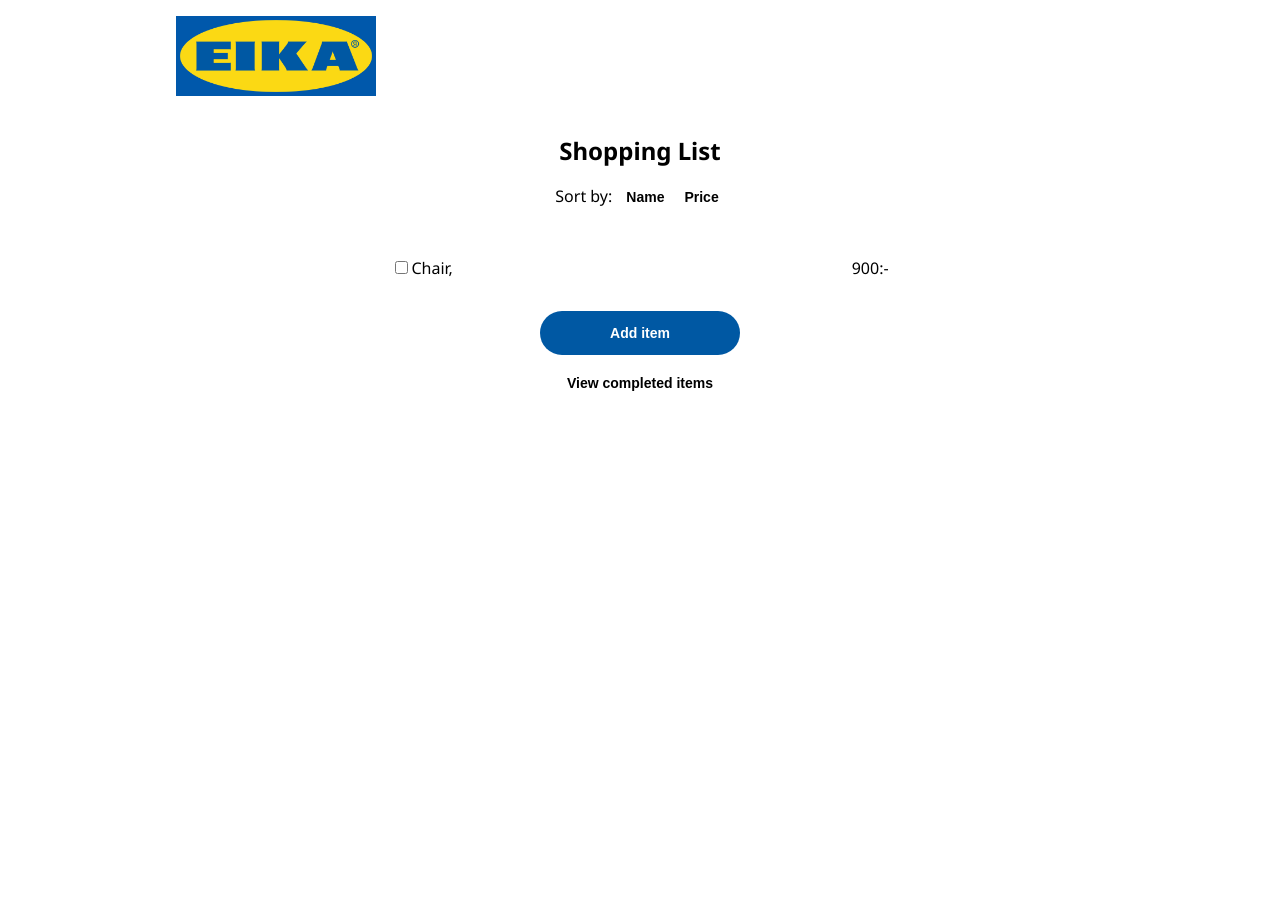
Scenario: Modal closes when clicking cancel button
What coordinates should you click on to do the following:
click the button "Add item"
I would click on:
 (640, 334)
Its box is [540, 312, 740, 356].
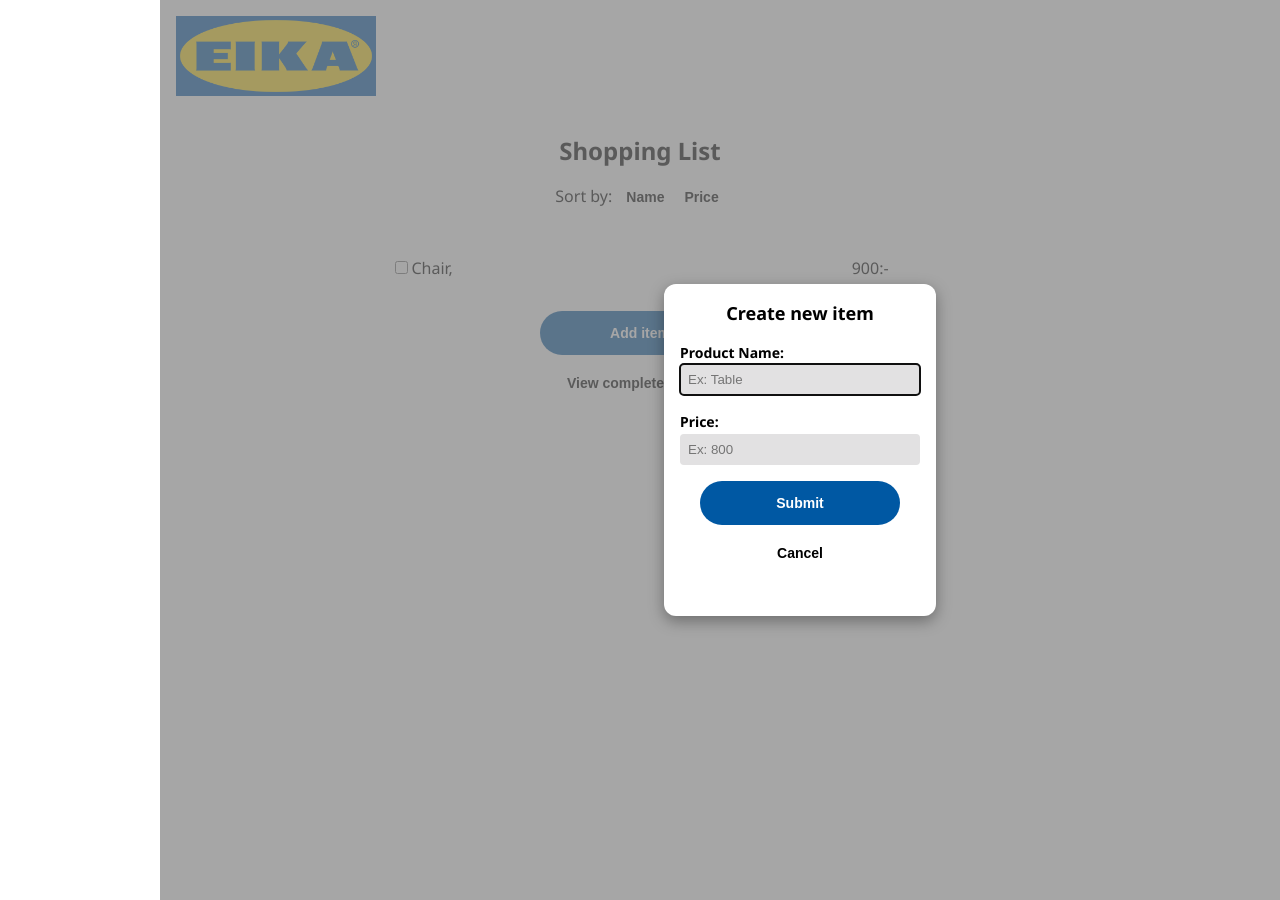
# Step 2 (closes modal)
What coordinates should you click on to do the following:
click the button "Cancel"
I would click on:
 (800, 553)
Its box is [680, 541, 920, 565].
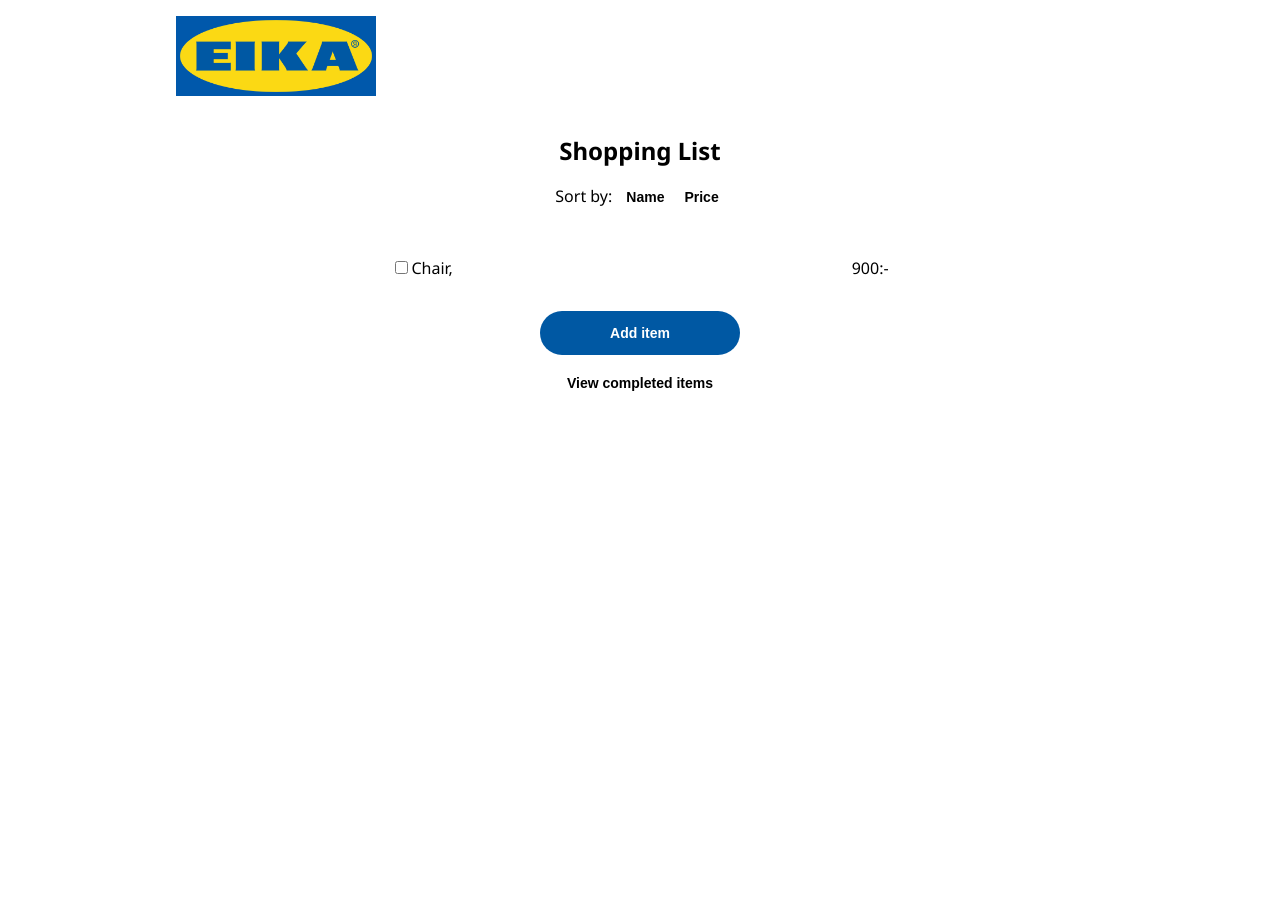
Expected: the heading "Create new item" is gone
